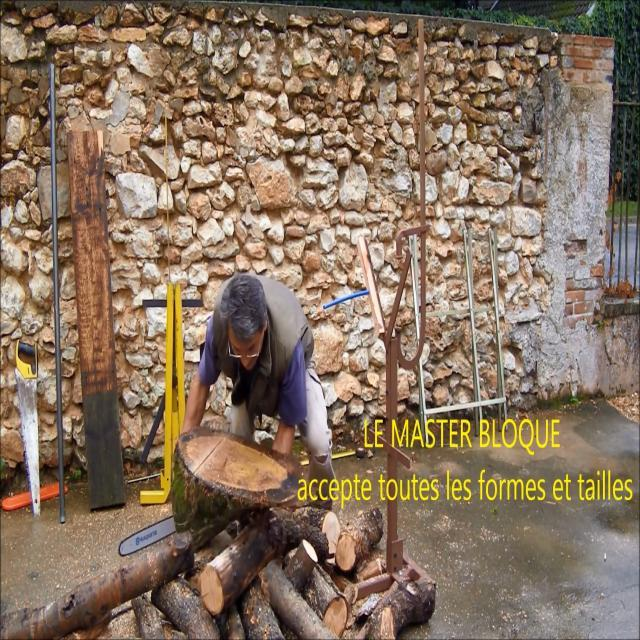Chainsaw: (108, 471, 205, 578)
